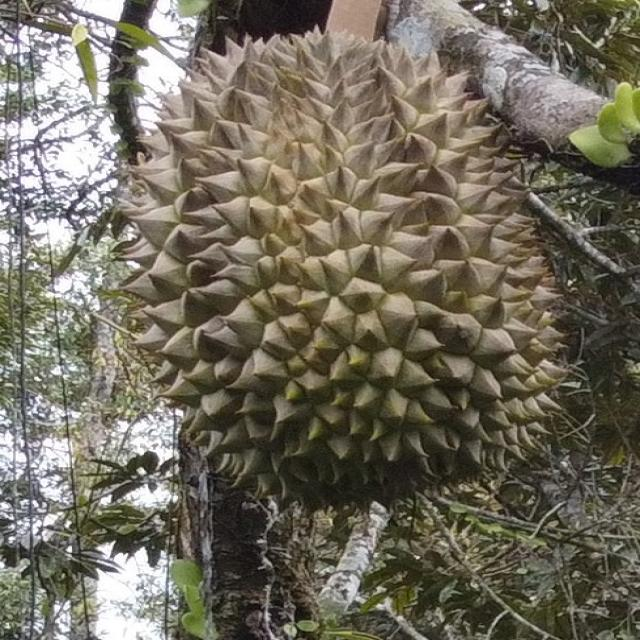mature: (122, 32, 566, 503)
